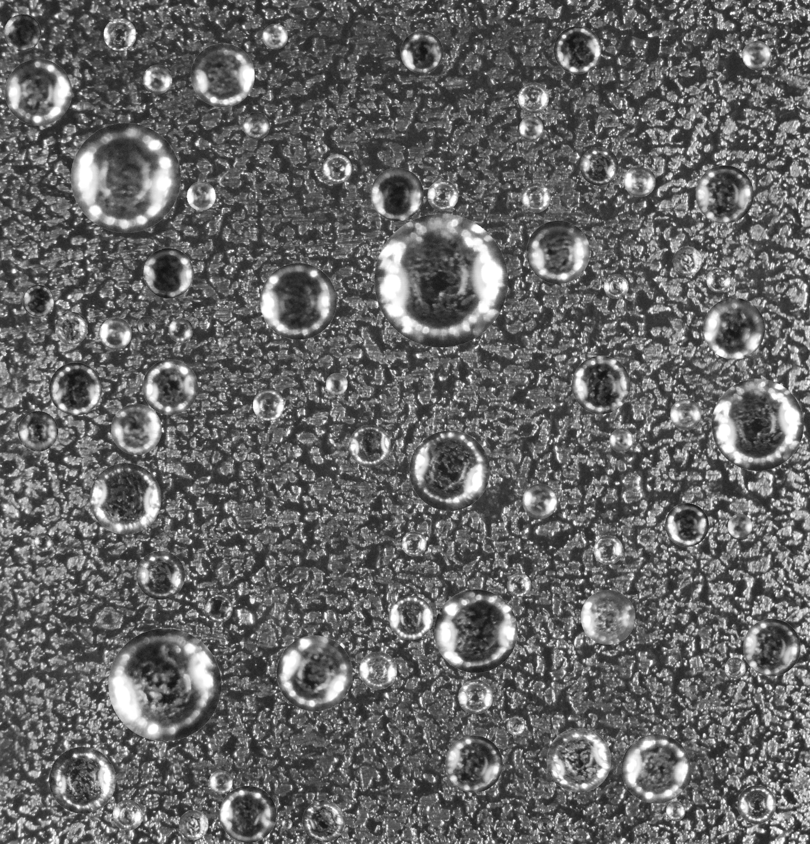Bubble: (374, 213, 507, 347), (108, 628, 221, 741), (70, 122, 180, 232), (711, 378, 803, 470), (434, 589, 517, 672), (409, 430, 489, 510), (276, 635, 352, 711), (260, 263, 336, 339), (89, 463, 161, 534), (621, 734, 690, 803), (5, 58, 71, 125), (49, 747, 115, 813), (546, 728, 611, 792), (190, 43, 254, 107), (526, 220, 589, 283), (703, 297, 765, 359), (572, 355, 630, 414), (695, 165, 753, 223), (743, 618, 800, 676), (445, 735, 502, 792), (219, 786, 276, 842), (142, 359, 197, 414), (580, 590, 635, 644), (370, 167, 423, 220), (49, 362, 101, 415), (143, 248, 193, 298), (111, 404, 161, 454), (136, 551, 184, 599), (553, 26, 601, 73), (389, 595, 433, 639), (400, 30, 443, 73), (665, 503, 708, 546), (348, 425, 391, 467), (302, 800, 344, 842), (17, 411, 58, 451), (737, 785, 776, 824), (359, 651, 397, 689), (580, 147, 618, 185), (4, 14, 41, 51), (522, 483, 557, 518), (458, 679, 492, 714), (54, 311, 87, 344), (103, 18, 136, 50), (99, 317, 131, 349), (22, 284, 54, 316), (252, 389, 284, 420), (670, 399, 701, 430), (624, 165, 655, 196), (518, 82, 548, 113), (427, 180, 458, 210), (112, 800, 142, 830), (178, 810, 208, 839), (742, 40, 771, 69), (593, 535, 622, 564), (186, 181, 215, 210), (521, 183, 550, 212), (143, 64, 172, 93), (673, 246, 702, 275), (322, 154, 351, 183), (204, 594, 232, 622), (242, 112, 269, 139), (262, 23, 287, 49), (401, 531, 426, 556), (706, 267, 731, 292), (168, 317, 193, 342), (727, 514, 752, 538), (603, 274, 628, 298), (519, 116, 543, 140), (208, 770, 232, 794), (507, 573, 531, 597), (609, 428, 633, 452), (325, 373, 347, 394), (724, 657, 746, 678), (666, 801, 685, 820), (136, 316, 155, 335), (506, 717, 524, 735), (34, 533, 52, 551), (537, 817, 552, 832), (281, 818, 292, 829), (317, 143, 327, 153)
